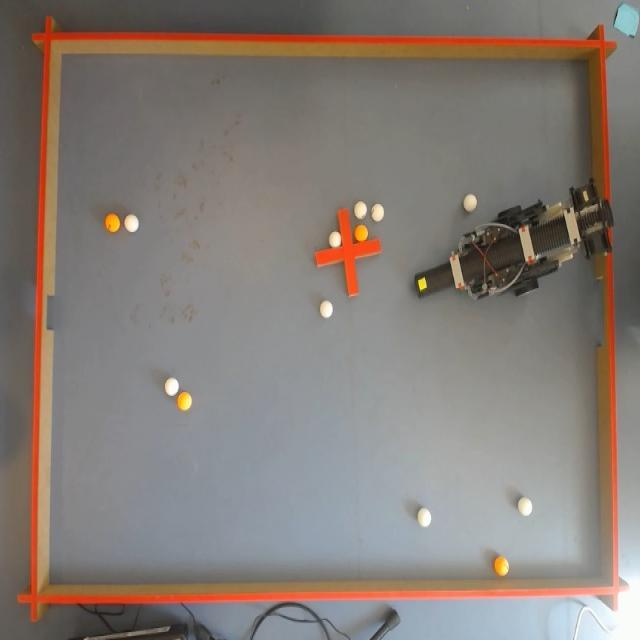orange: (494, 554, 512, 575), (104, 215, 122, 234), (180, 394, 192, 412), (356, 226, 367, 243)
robot: (424, 192, 605, 312)
white: (124, 215, 138, 236), (464, 194, 478, 214), (518, 496, 532, 516), (164, 378, 178, 397), (416, 507, 429, 527), (319, 298, 332, 318), (353, 199, 365, 219), (372, 203, 383, 222), (331, 231, 342, 249)
